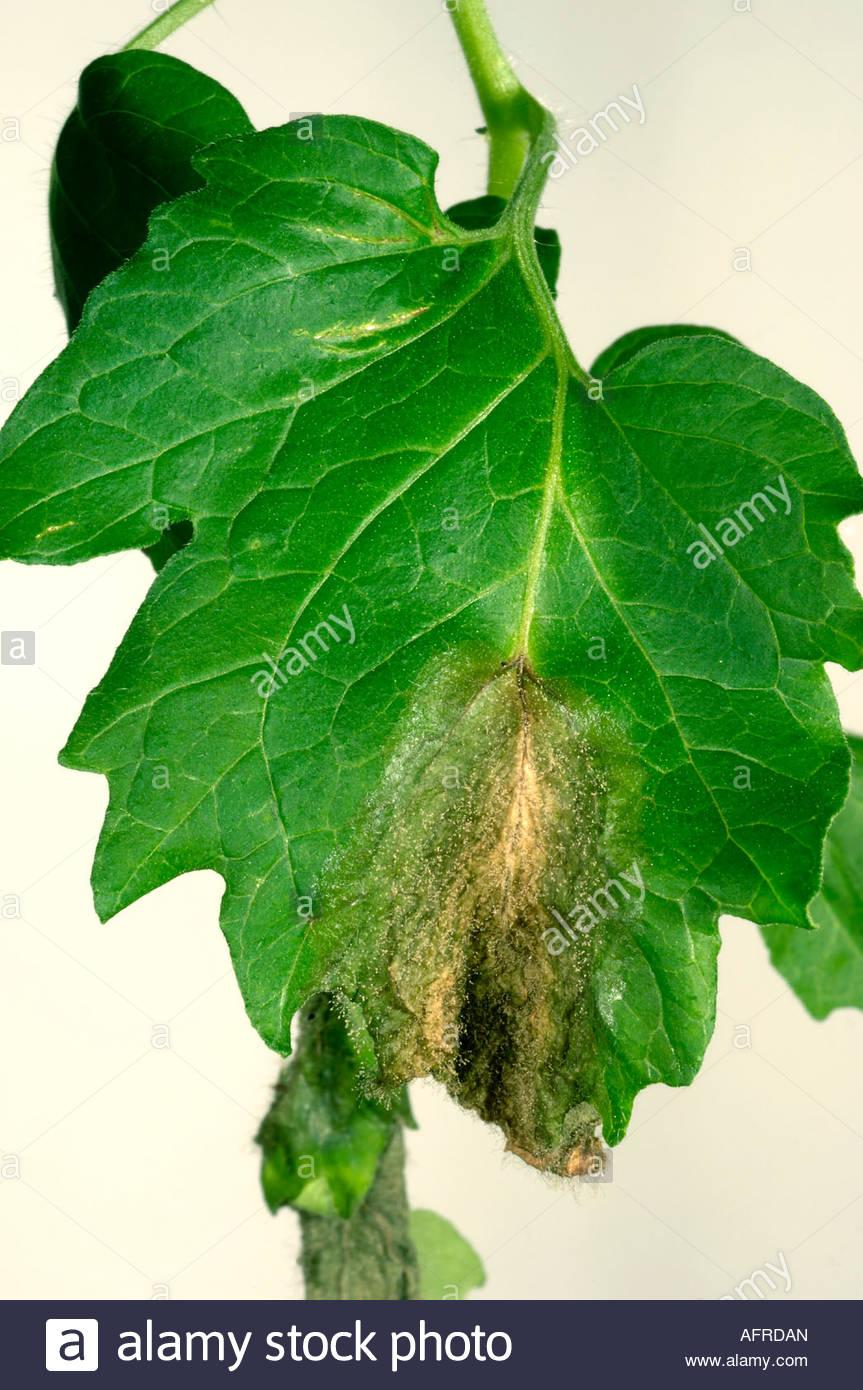Tomato mold leaf: (1, 112, 853, 1219)
